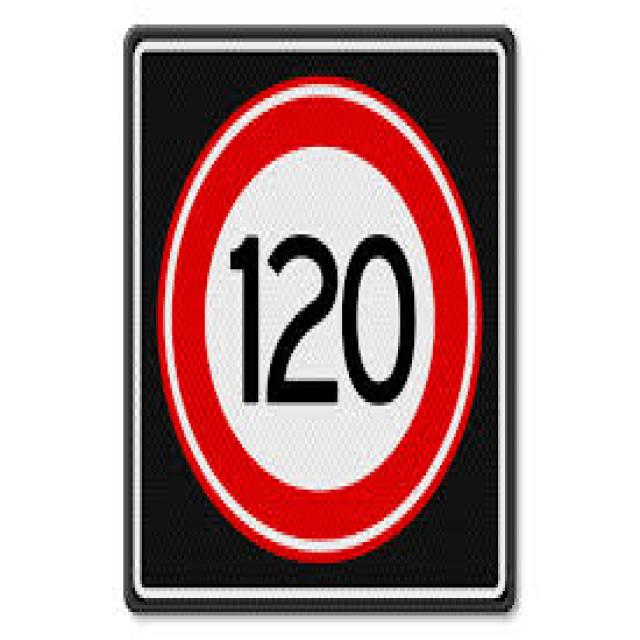SPEED_LIMIT_120: (152, 67, 486, 570)
